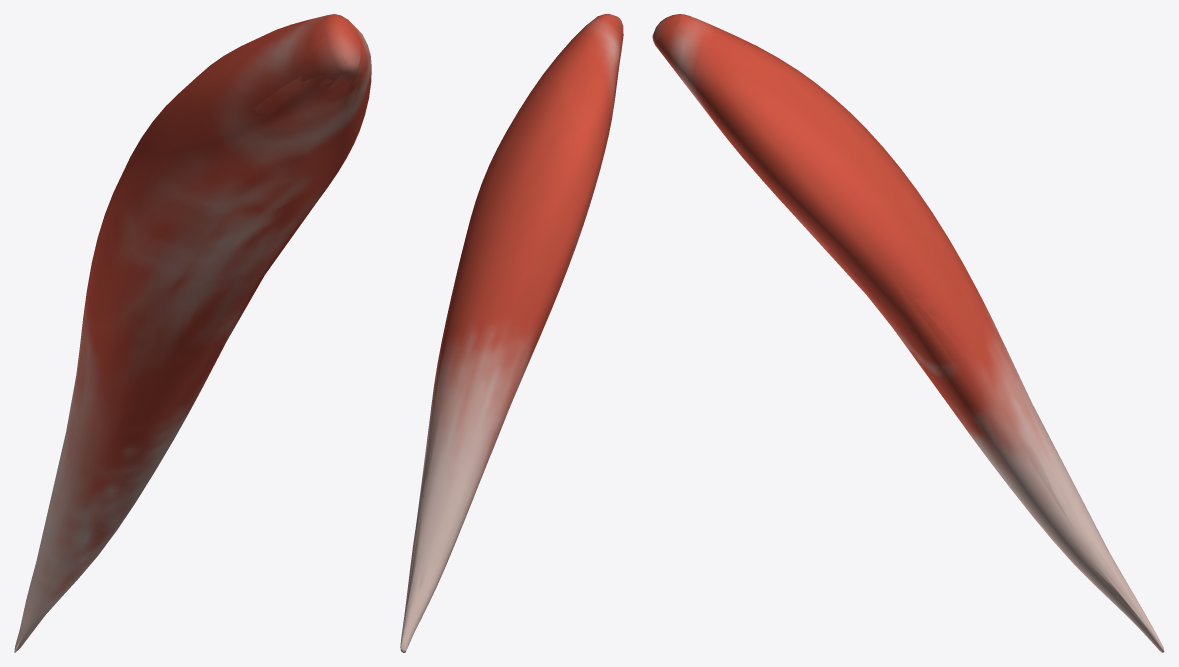
Rendered from R Gastrocnemius.fbx.
The picture shows the model from 3 angles, left to right: view 1: azimuth 30°, elevation 25°; view 2: azimuth 150°, elevation 25°; view 3: azimuth 270°, elevation 25°; orthographic projection. The views are drawn at different scales.
Visible parts, largest first — view 1: R Gastrocnemius, R Gastrocnemius low; view 2: R Gastrocnemius, R Gastrocnemius low; view 3: R Gastrocnemius, R Gastrocnemius low.
Boxes of the visible parts, <box> form: R Gastrocnemius: <box>14,14,371,652</box>; R Gastrocnemius low: <box>14,15,368,651</box>; R Gastrocnemius: <box>400,14,623,652</box>; R Gastrocnemius low: <box>401,14,621,652</box>; R Gastrocnemius: <box>652,14,1164,652</box>; R Gastrocnemius low: <box>652,15,1157,643</box>.
Bounding box in the file's own units: 3.24 × 14.76 × 10.86.
